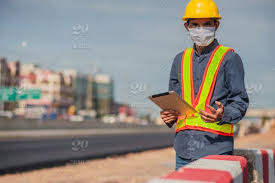Helmet: (177, 2, 225, 20)
Jacket: (172, 54, 245, 138)
Mask: (185, 28, 217, 47)
